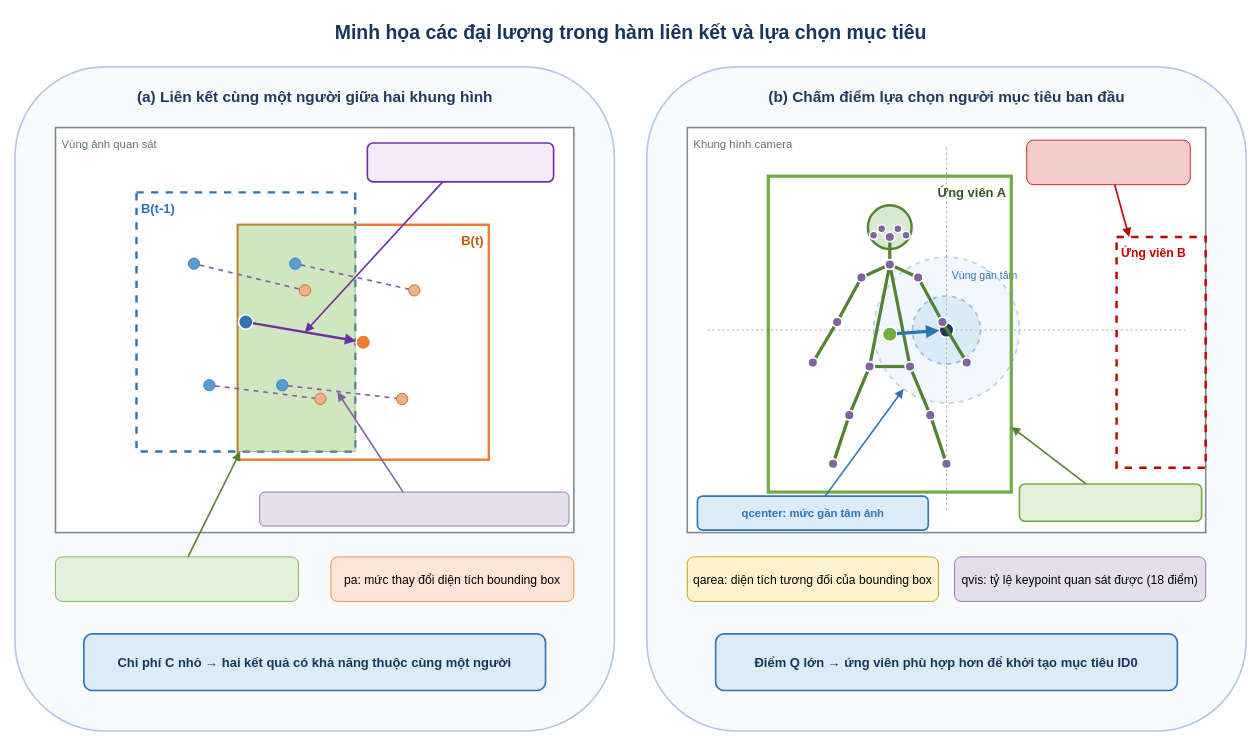
The diagram is 1260 pixels wide and 745 high, and some of its shapes have lost their labels. The centre of each missing label's shape, as x and y in pixels:
"d̂c: khoảng cách tâm đã chuẩn hóa" belongs at point 460,162.
"d̂p: sai khác vị trí các điểm vai và hông" belongs at point 414,508.
"IoU: mức chồng lấp của hai bounding box" belongs at point 176,578.
"pedge: giảm điểm khi người bị cắt ở biên ảnh" belongs at point 1108,162.
"qdet: độ tin cậy của phép phát hiện" belongs at point 1110,502.
"Tâm ảnh" belongs at point 946,330.
